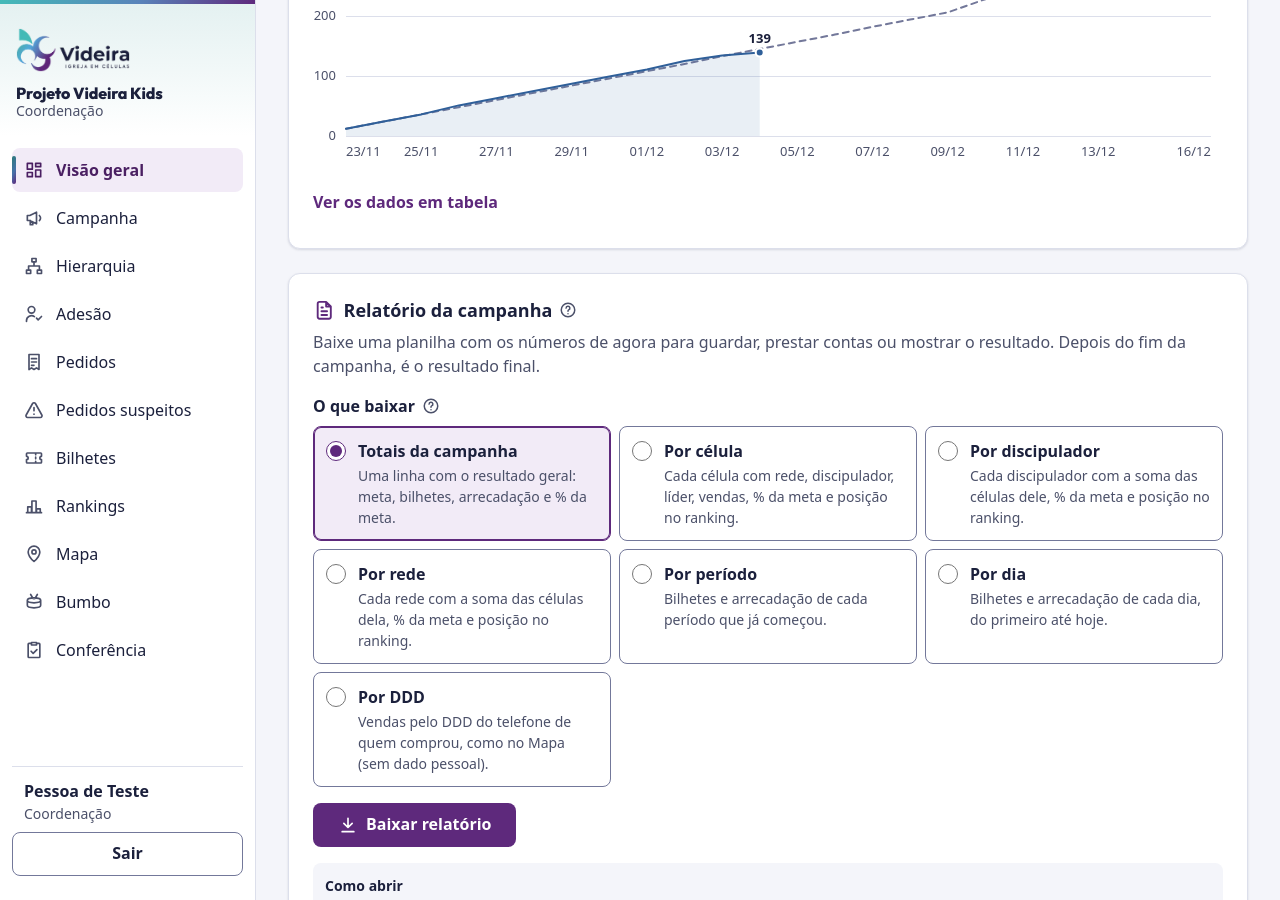
Test: CA1: o cartão, os tipos, a consulta e o nome do arquivo › o tipo escolhido vai na consulta; o nome do arquivo vem do Content-Disposition; o arquivo é o CSV da API, com o BOM
(page scrolled)
Click the radio button labelled "Por célula": (642, 451) [632,441,652,461]
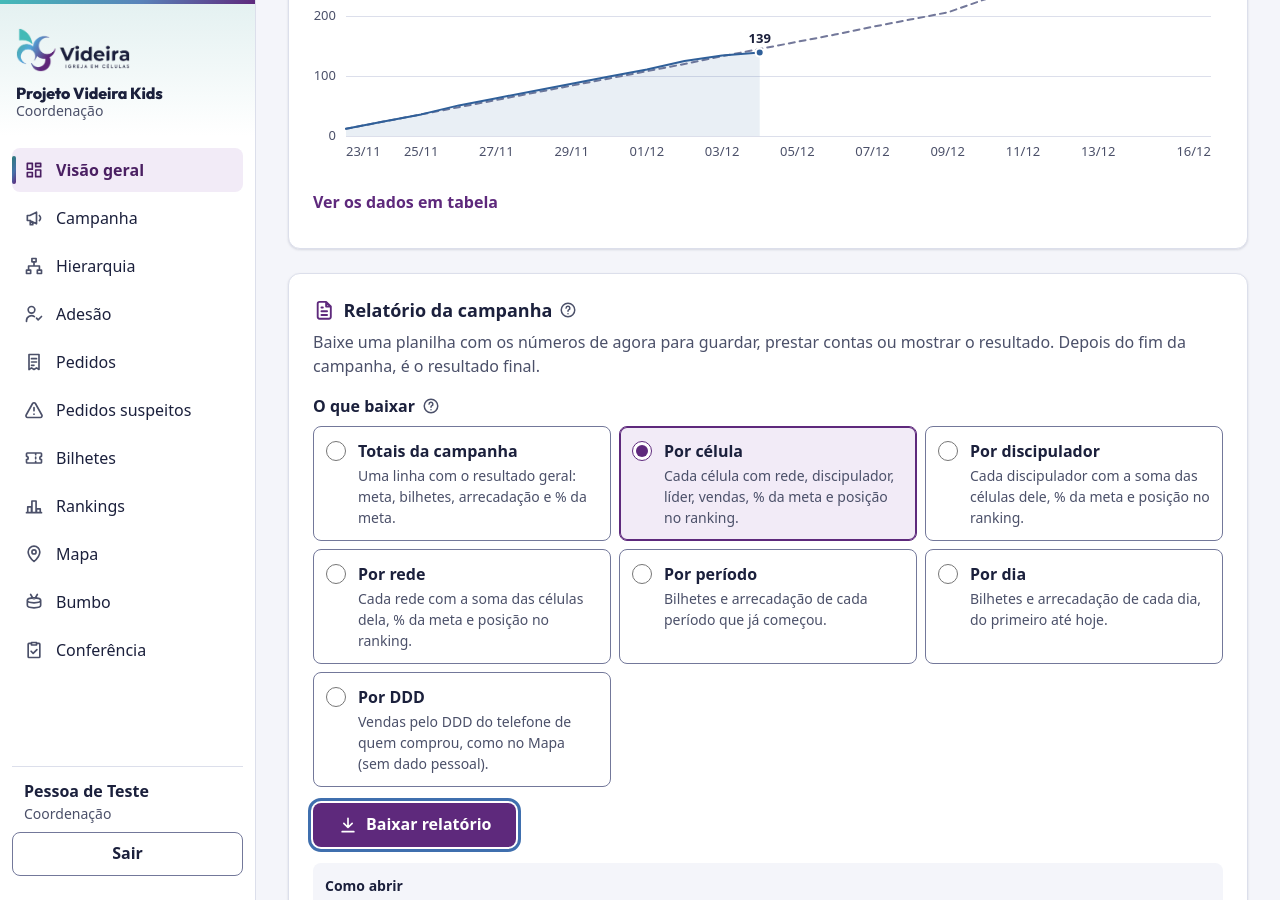
Check: the radio button labelled "Por célula" is checked, box [632,441,652,461]
Click the button "Baixar relatório": (415, 825) [313,803,516,847]
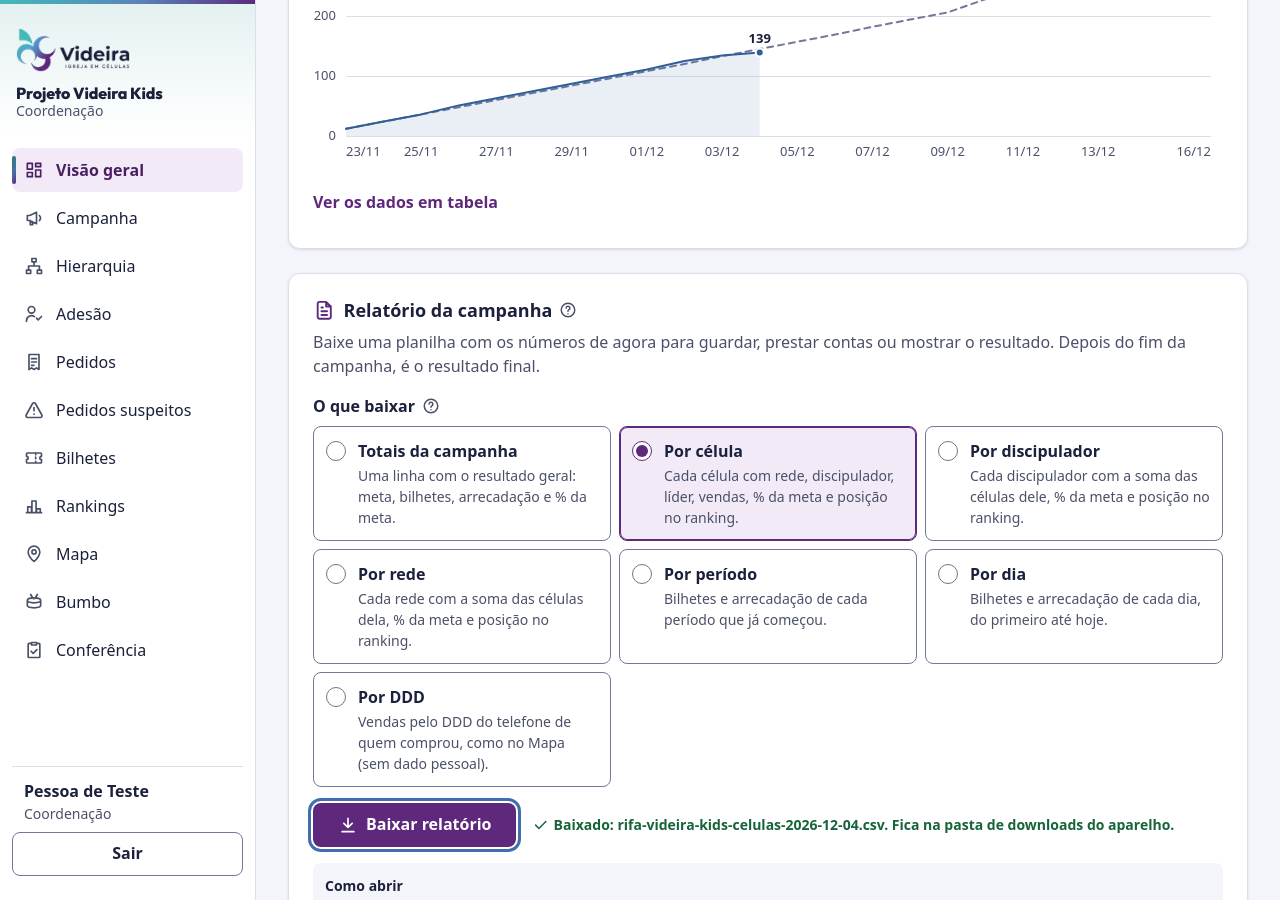
Check: the text "rifa-videira-kids-celulas-2026-12-04.csv" is shown, box [618,815,884,834]
